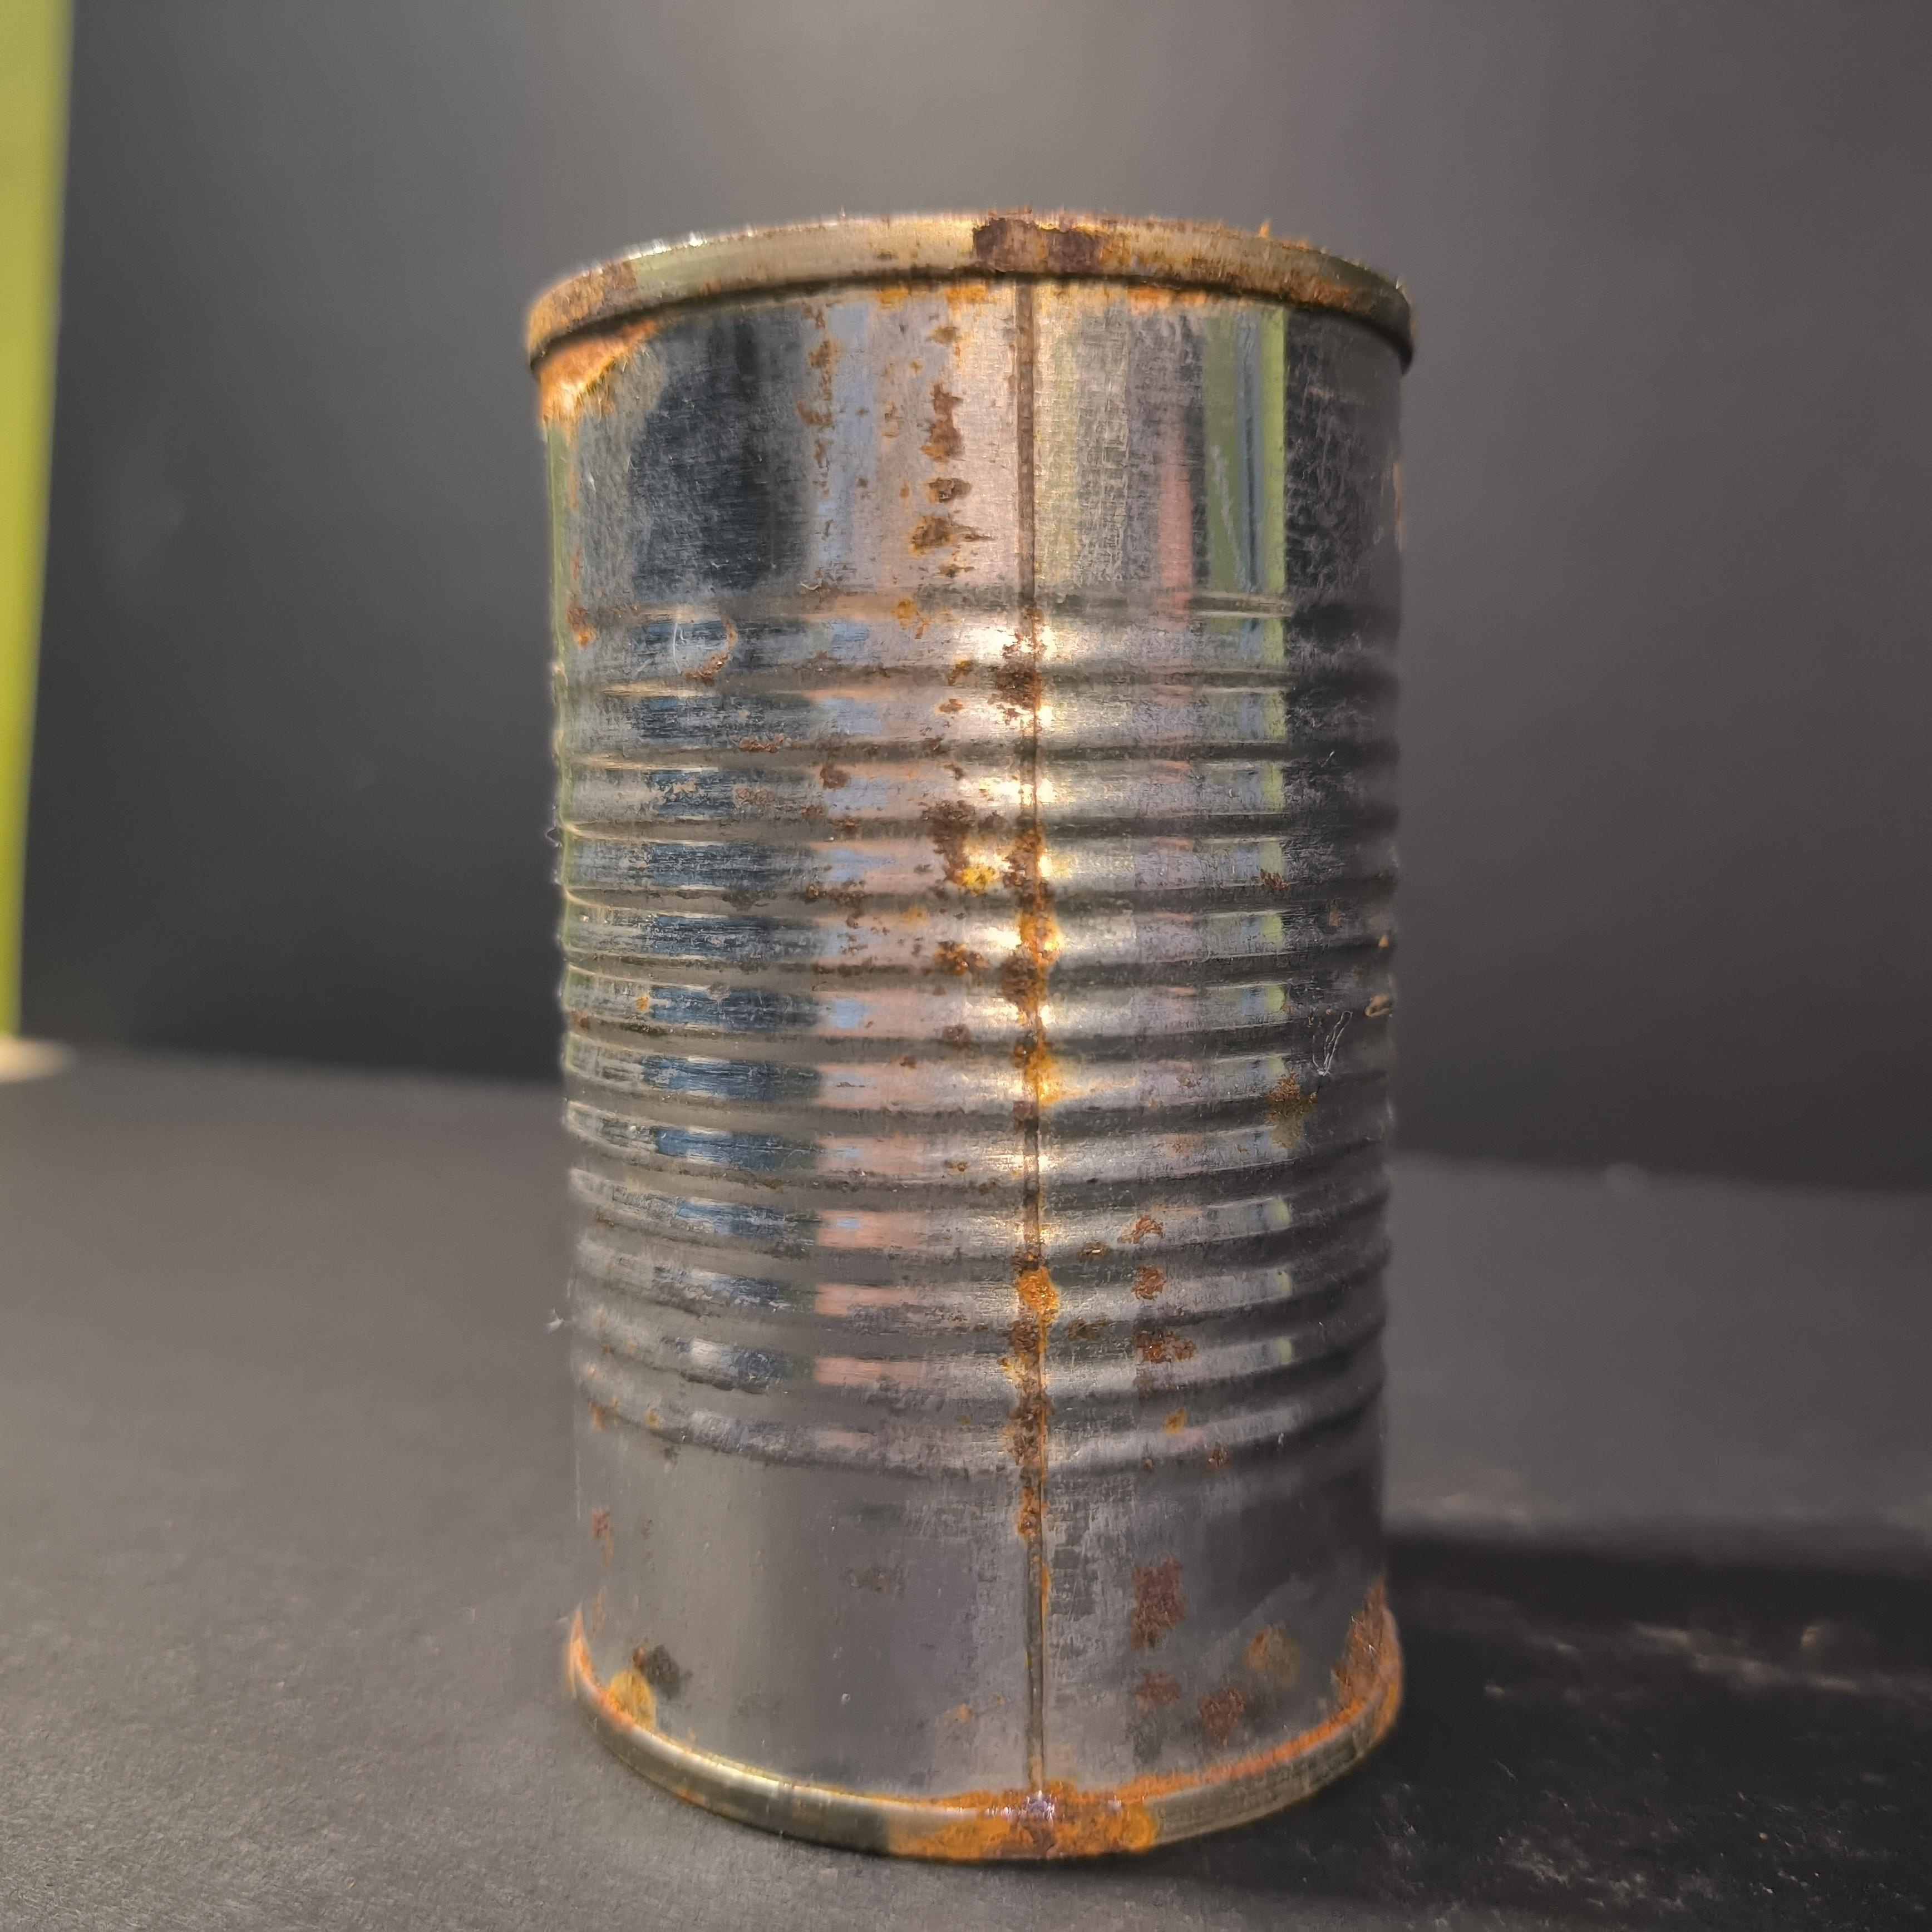Rusted: (492, 184, 1467, 1890)
